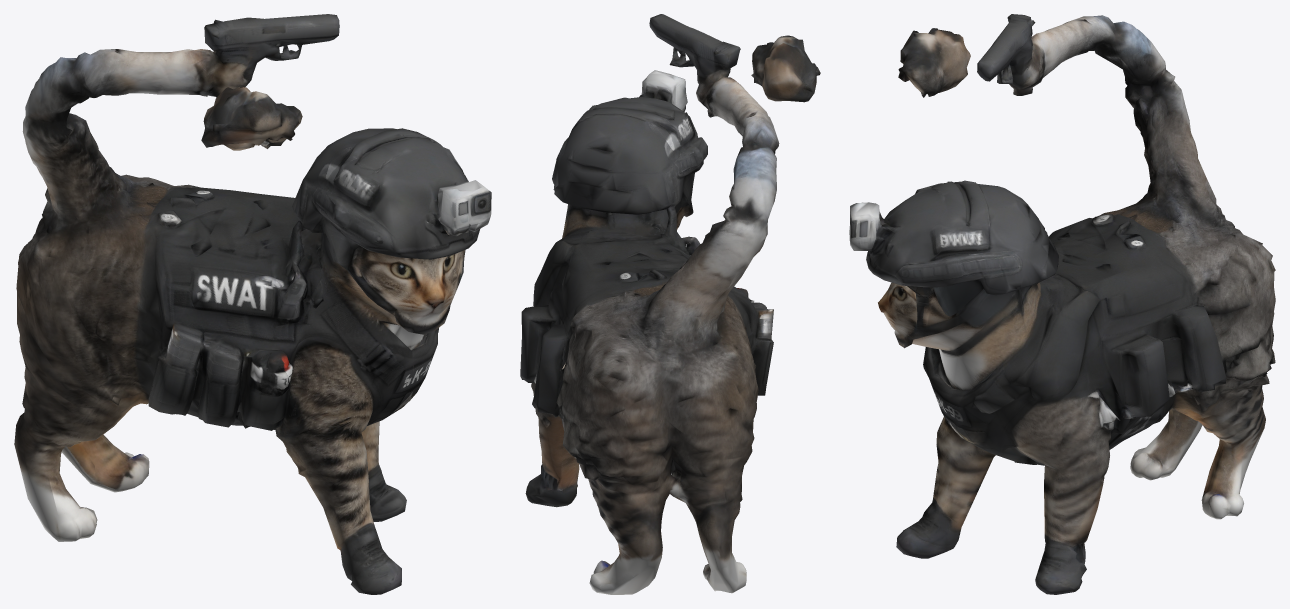
The model's file is Meshy_AI_SWAT_Cat_Tactical_Wh_0504165751_texture.fbx.
3 views of the same model, side by side, from view 1: azimuth 30°, elevation 25°; view 2: azimuth 150°, elevation 25°; view 3: azimuth 270°, elevation 25° (orthographic). The views are drawn at different scales.
Visible parts, largest first — view 1: Mesh_0; view 2: Mesh_0; view 3: Mesh_0.
Boxes of the visible parts, bbox=[...] form: Mesh_0: bbox=[14, 14, 491, 594]; Mesh_0: bbox=[520, 14, 820, 594]; Mesh_0: bbox=[849, 14, 1275, 594].
Bounding box in the file's own units: 127 × 200 × 158.
1 material, 1 textured.
